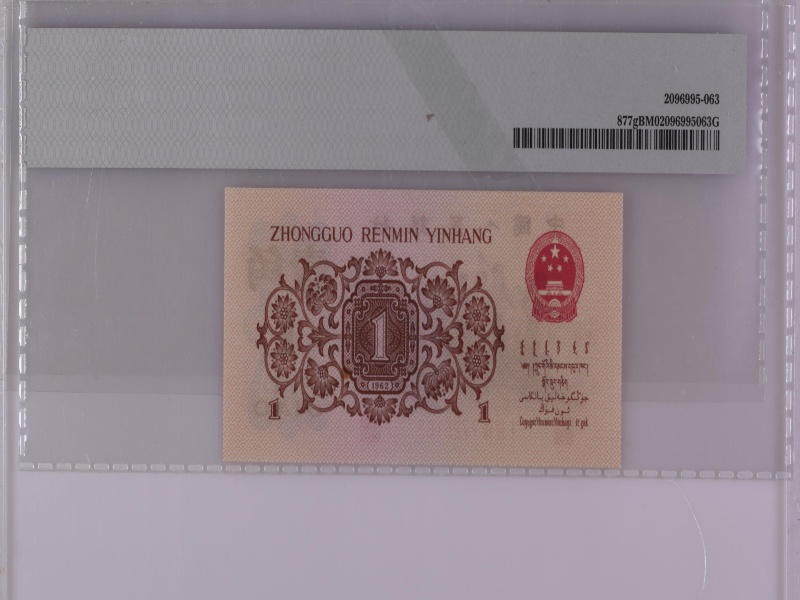papernote: (223, 184, 623, 467)
